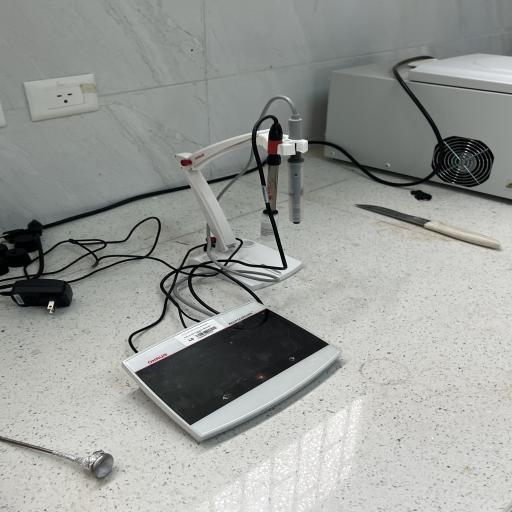Phmetro_Ohaus: (115, 296, 354, 449)
